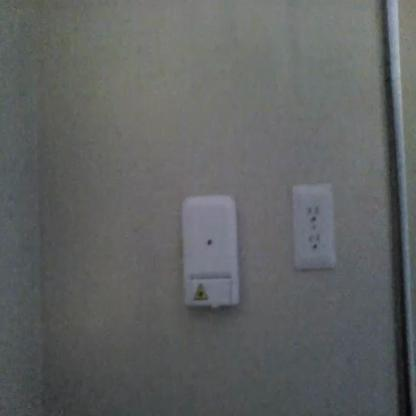OUTLET: (291, 183, 336, 268)
